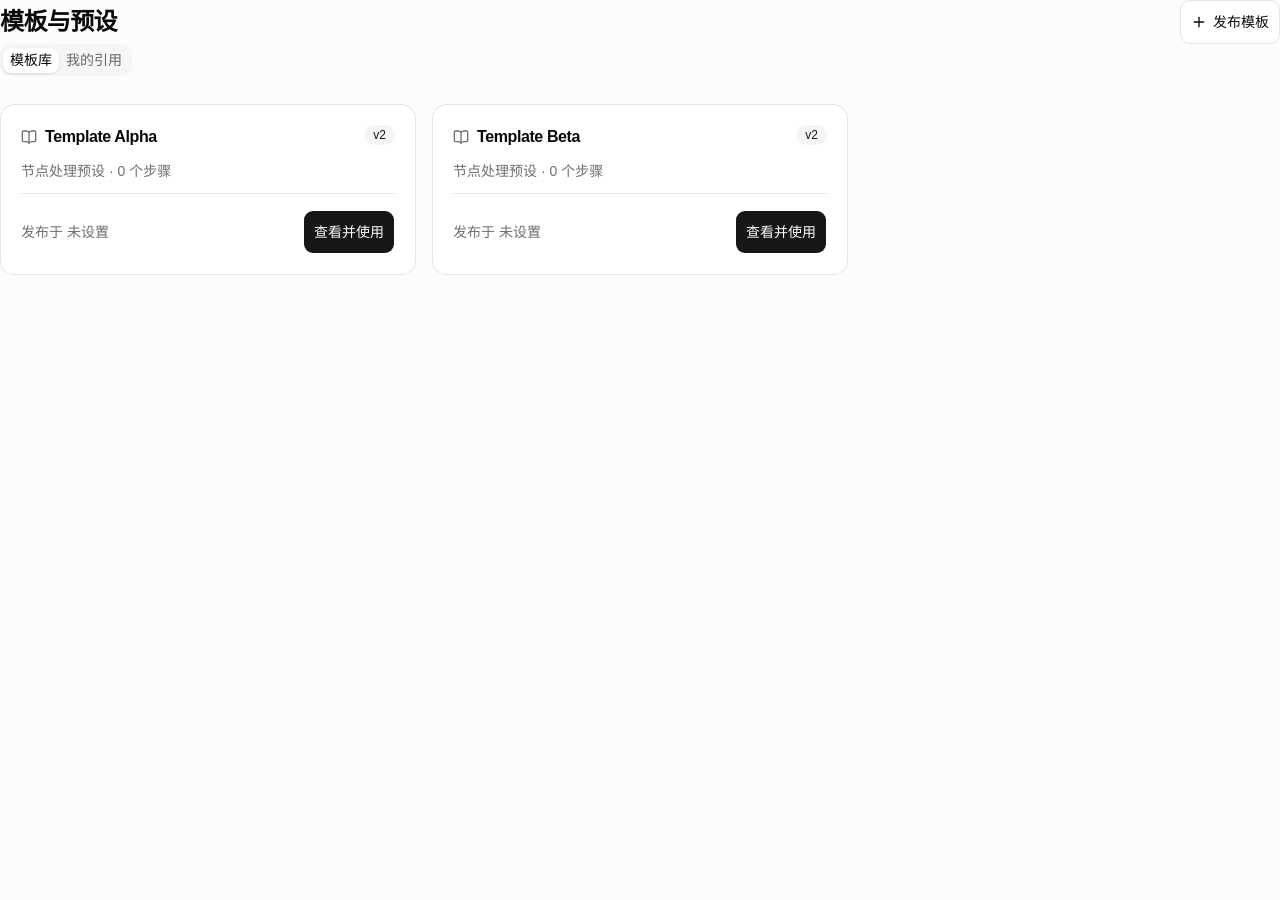
retains an unpublished template draft on canceled discard, and discards only on confirmation
Click the button "发布模板".
click(1230, 22)  # box top-left (1180, 0), bottom-right (1279, 44)
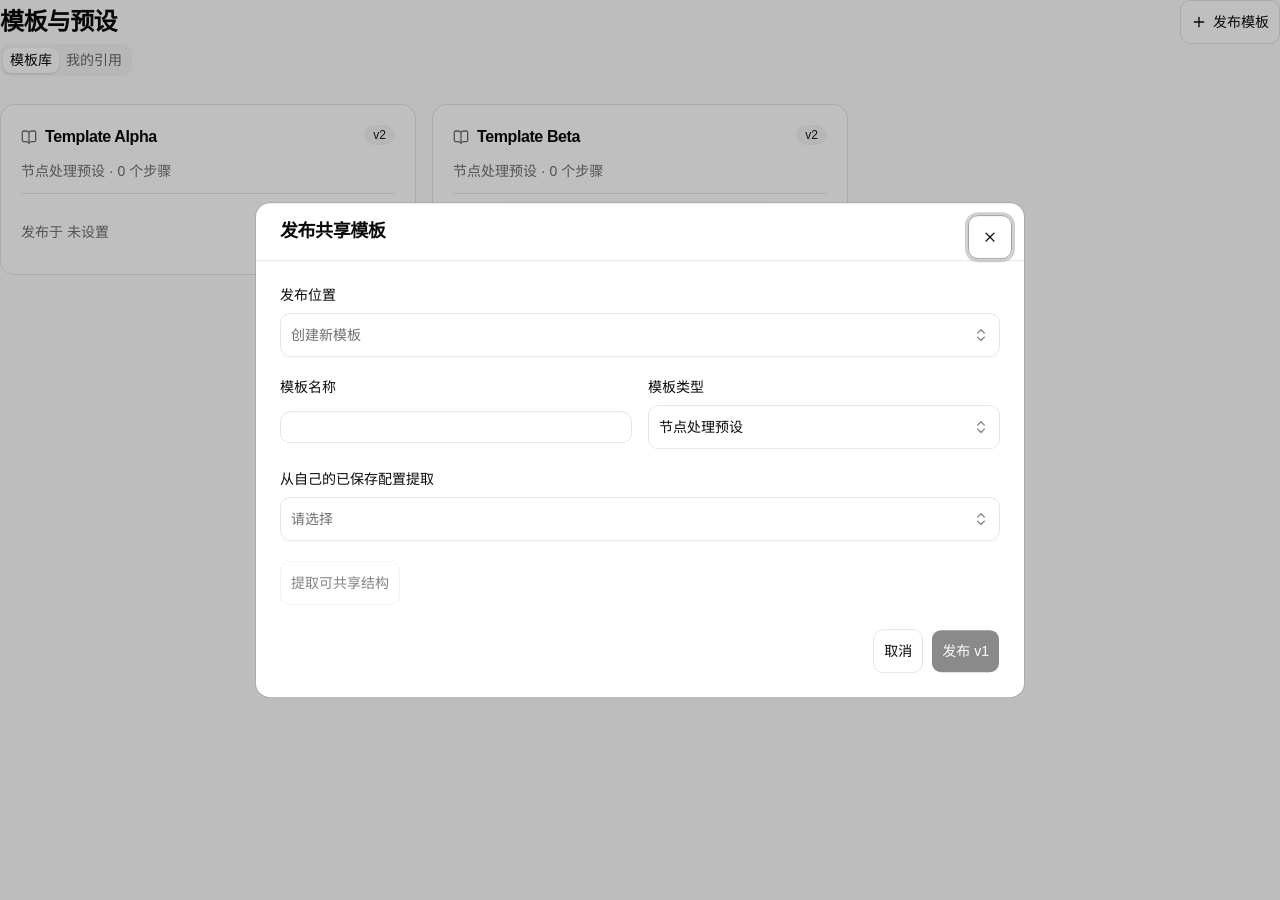
Type "My reusable template" into the field labelled "模板名称".
click(456, 427); type("My reusable template")  # box top-left (280, 411), bottom-right (632, 443)
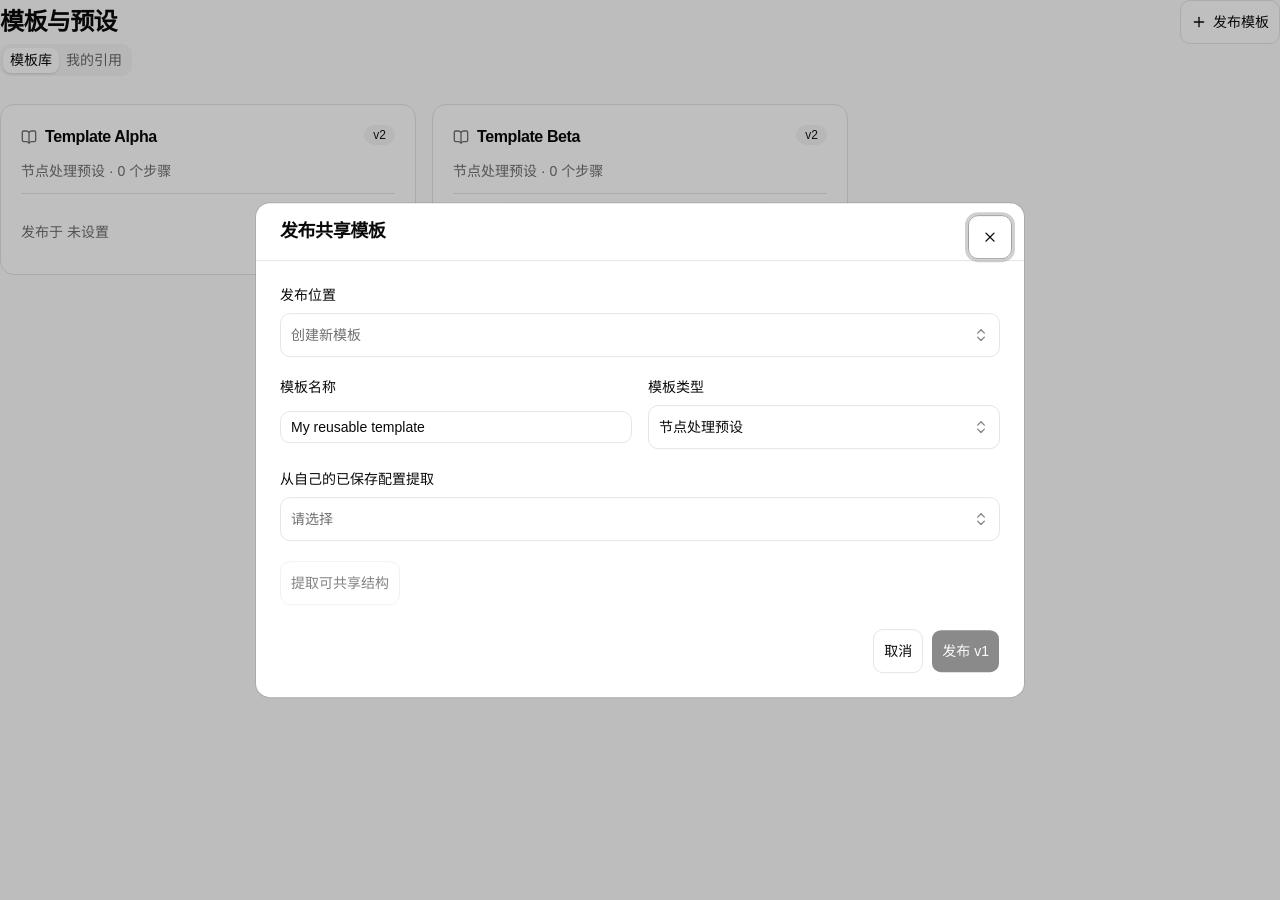
Click the button "取消".
click(898, 651)  # box top-left (873, 629), bottom-right (923, 673)
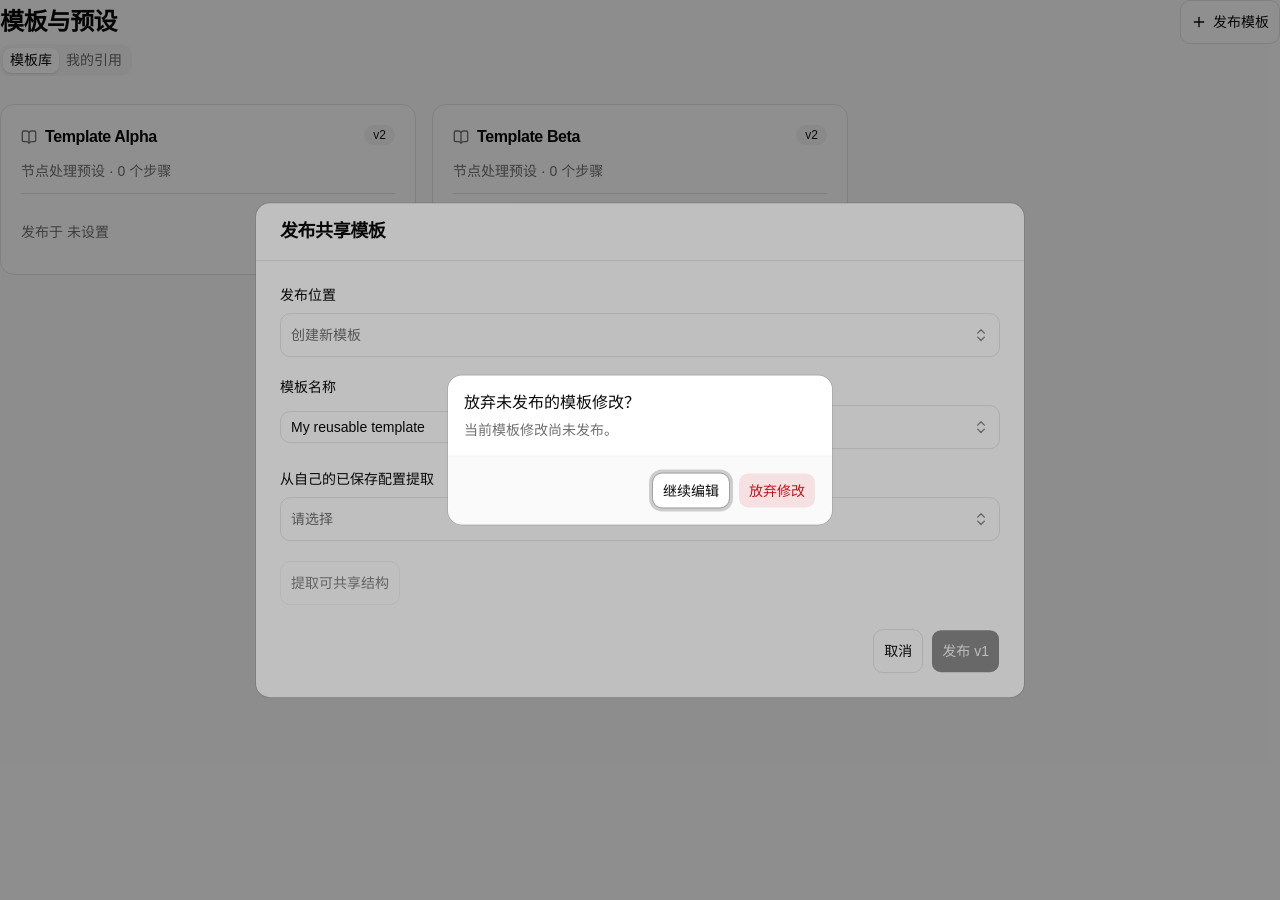
Click the button "继续编辑".
click(691, 490)  # box top-left (652, 472), bottom-right (730, 508)
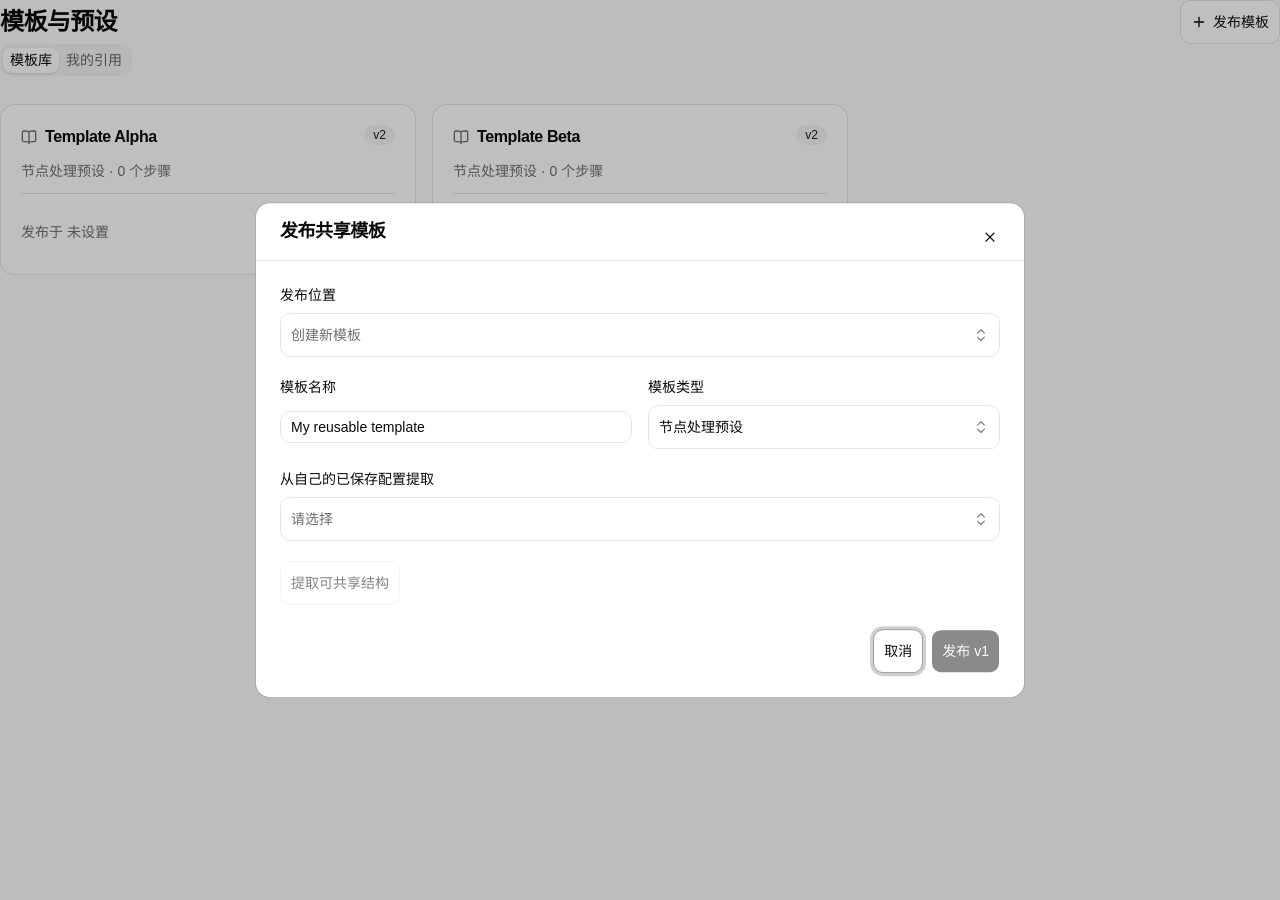
Now the heading "放弃未发布的模板修改？" is gone
Click the button "取消".
click(898, 651)  # box top-left (873, 629), bottom-right (923, 673)
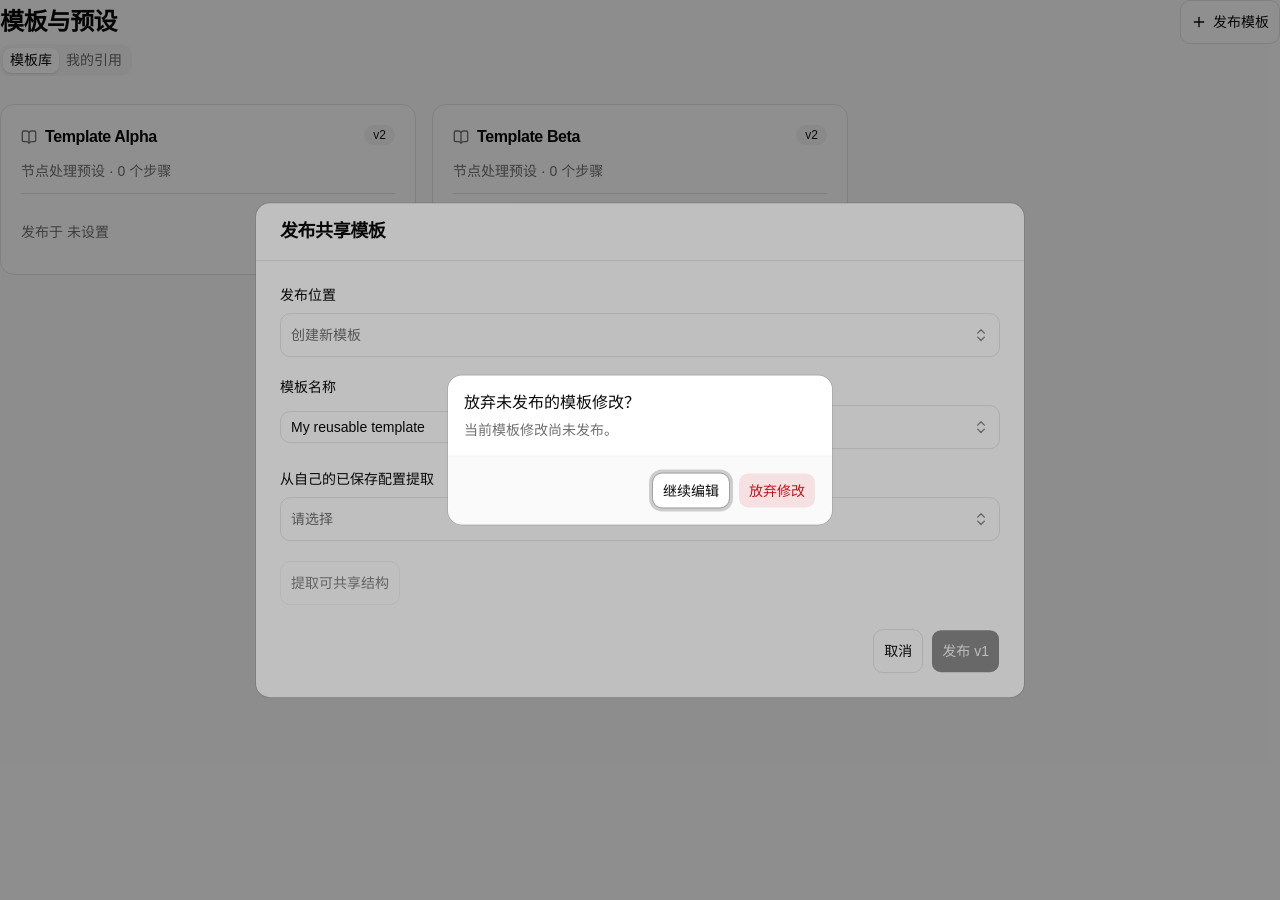
Click the button "放弃修改".
click(777, 490)  # box top-left (738, 472), bottom-right (816, 508)
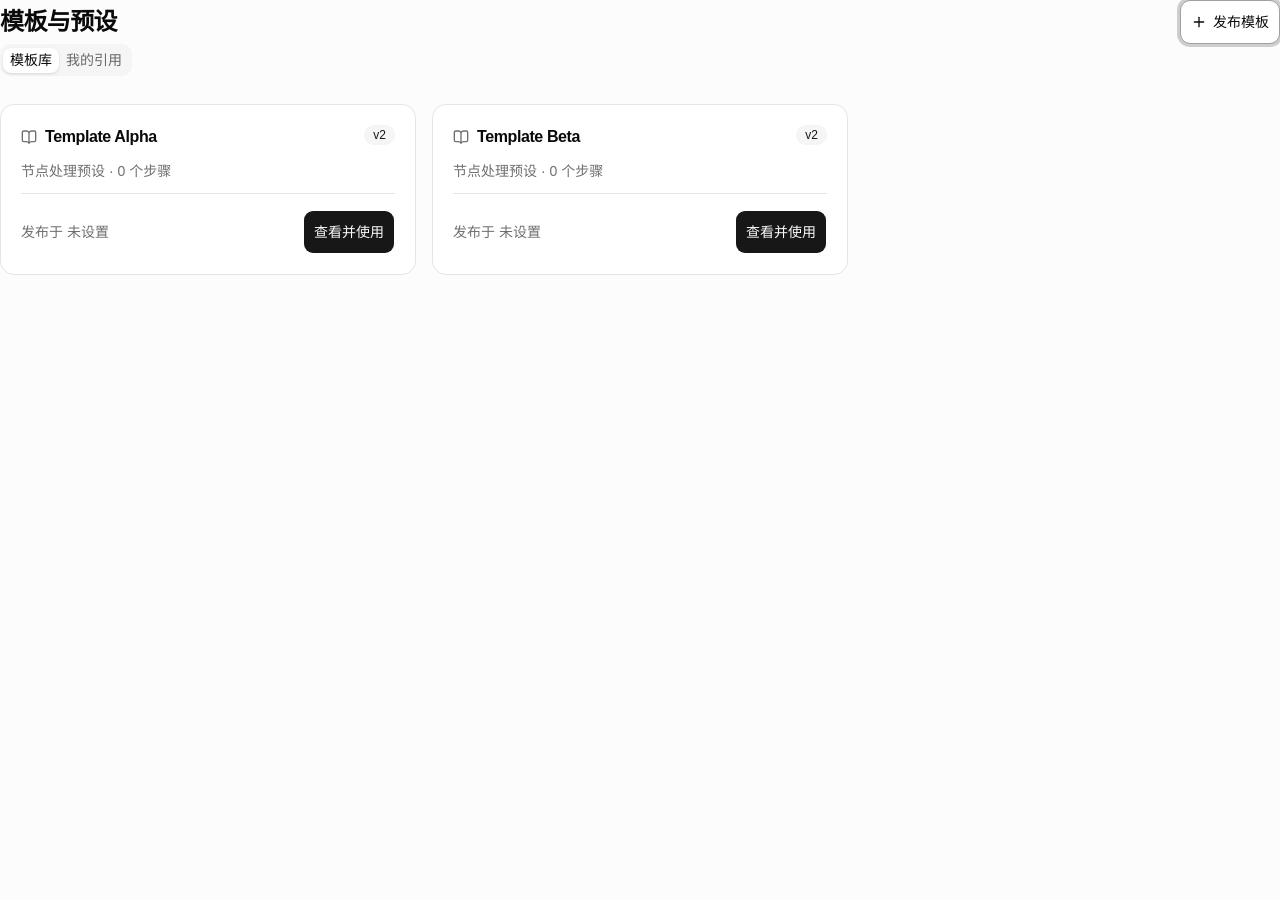
Now the heading "发布共享模板" is gone
